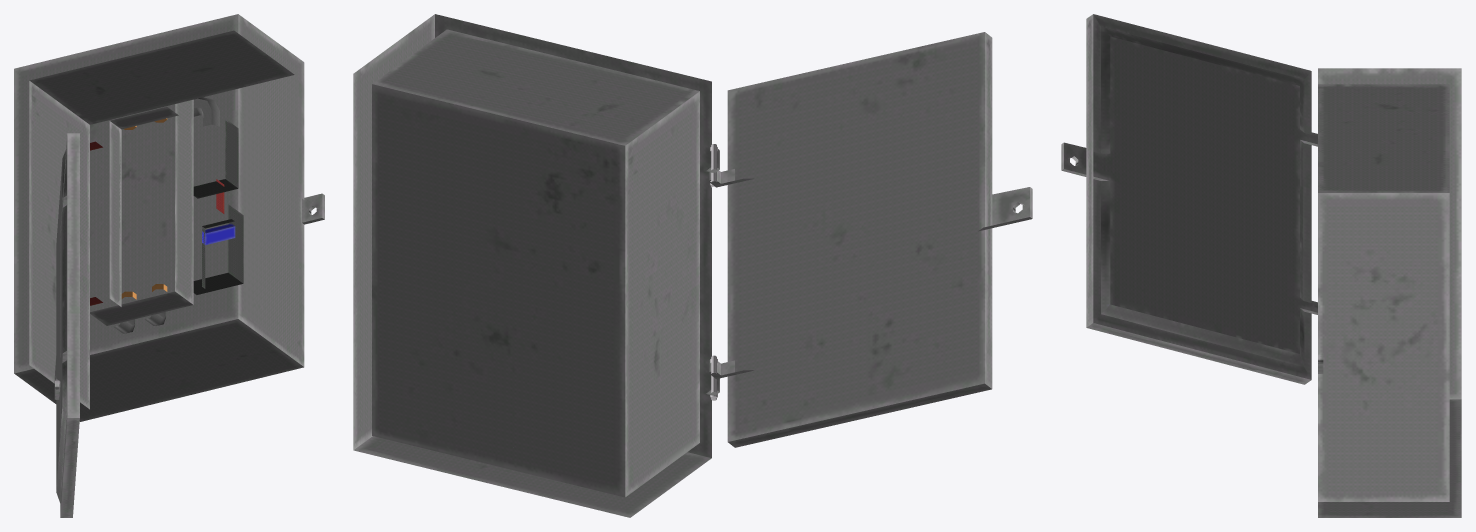
Rendered from control_box.gltf.
3 renders of one model, left to right at view 1: azimuth 30°, elevation 25°; view 2: azimuth 150°, elevation 25°; view 3: azimuth 270°, elevation 25°, orthographic. The views are drawn at different scales.
Parts seen in each view (by area): view 1: ControlBox_1, ControlBoxCircuit_1, ControlBoxDoor_1, ControlBoxSwitch_1; view 2: ControlBox_1, ControlBoxDoor_1; view 3: ControlBoxDoor_1, ControlBox_1.
Boxes of the visible parts, x1,y1,x2,y2 form: ControlBox_1: (14, 14, 324, 421); ControlBoxCircuit_1: (90, 97, 243, 333); ControlBoxDoor_1: (54, 133, 79, 517); ControlBoxSwitch_1: (202, 223, 235, 245); ControlBox_1: (353, 14, 719, 517); ControlBoxDoor_1: (708, 32, 1032, 447); ControlBoxDoor_1: (1061, 14, 1317, 384); ControlBox_1: (1318, 68, 1461, 517).
Size of the model in its own units: 0.7223 by 0.5437 by 0.596.
2 materials, 2 textured.
